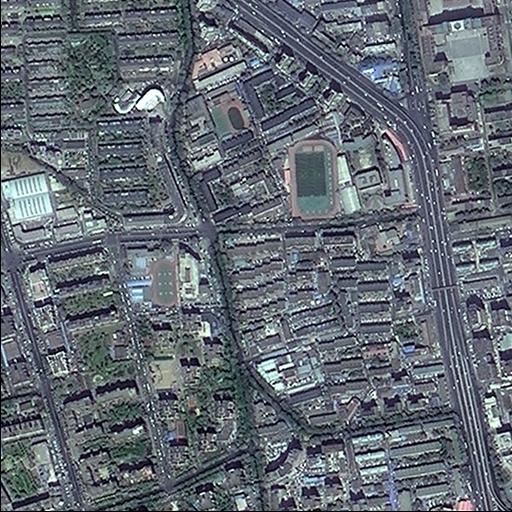school: (282, 129, 415, 222), (172, 77, 257, 157), (113, 236, 177, 315)
